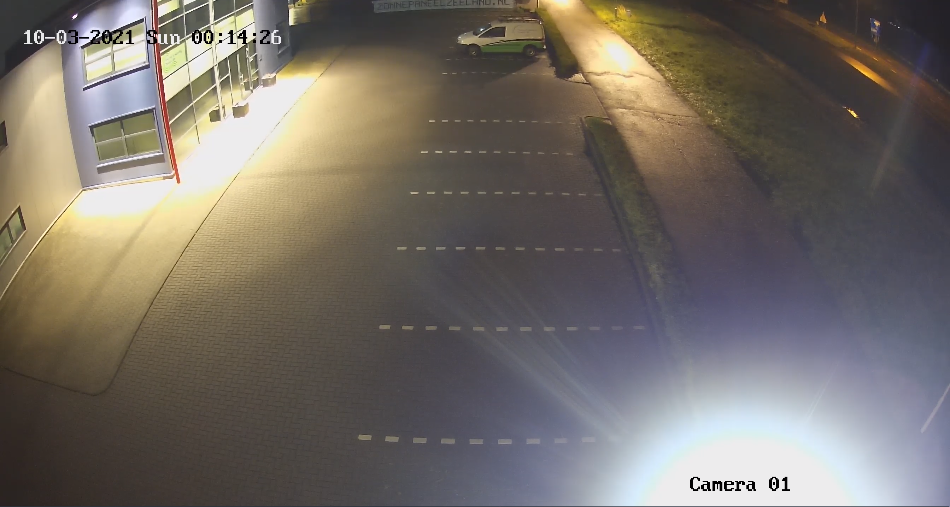werkbus: (450, 15, 550, 62)
